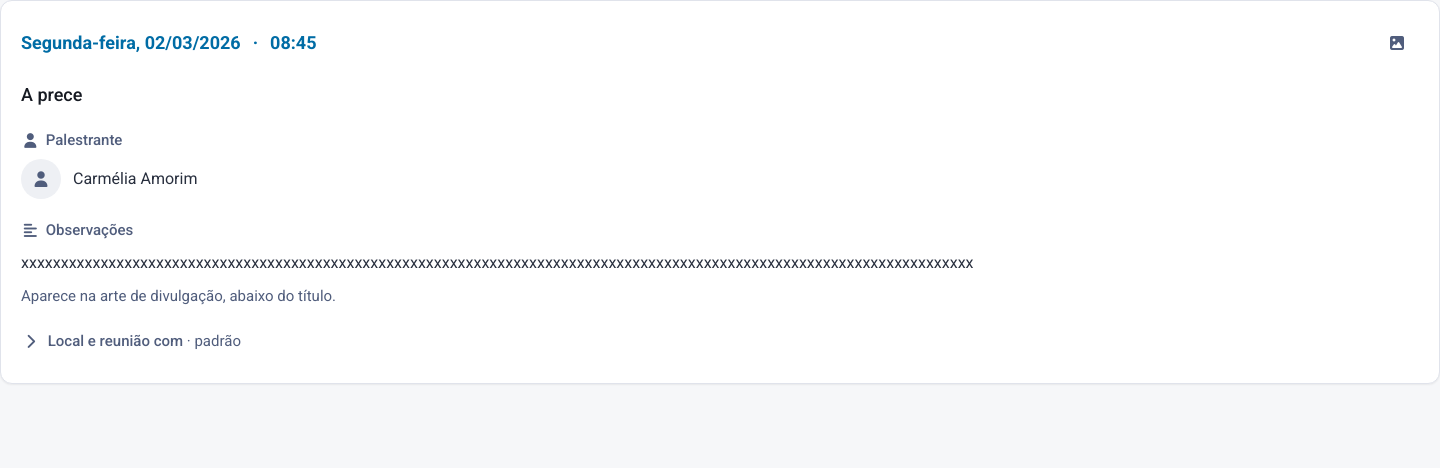
Scenario: TU-27 TalkCard art readiness › asks to shorten a legacy note that does not fit the art
What coordinates should you click on to do the following:
click the button named "Gerar arte para redes sociais: A prece"
I would click on:
 (1397, 43)
Its box is [1375, 21, 1419, 65].
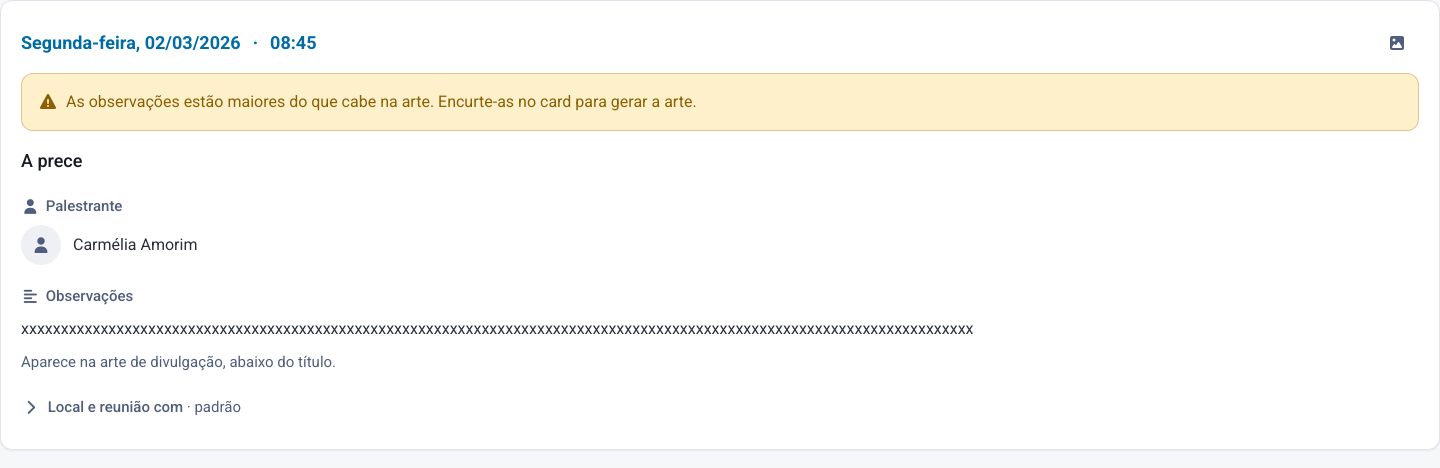
Expected: the message shows "As observações estão maiores do que cabe na arte. Encurte-as no card para gerar a arte.", [66, 92, 697, 111]
